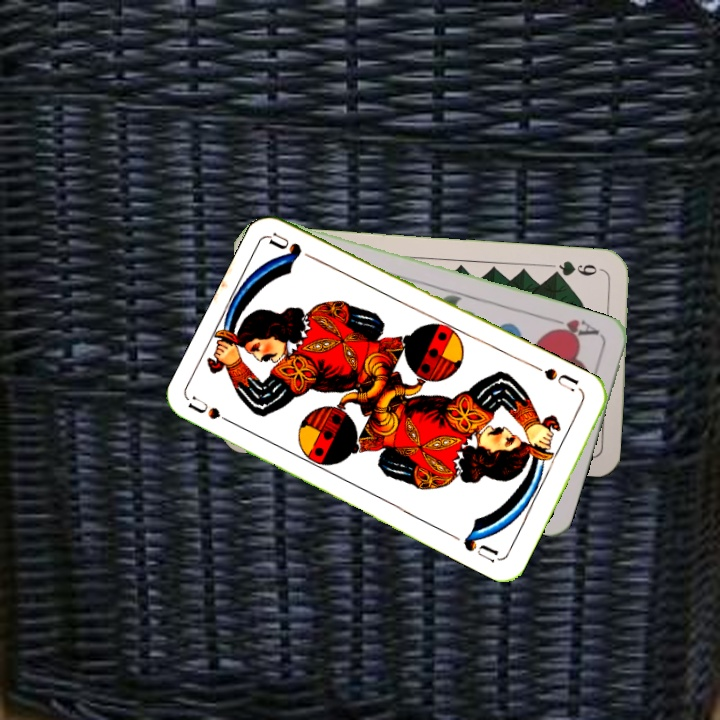G9: (547, 257, 606, 279)
HA: (545, 313, 602, 342)
SU: (186, 392, 243, 430), (540, 363, 581, 393)
